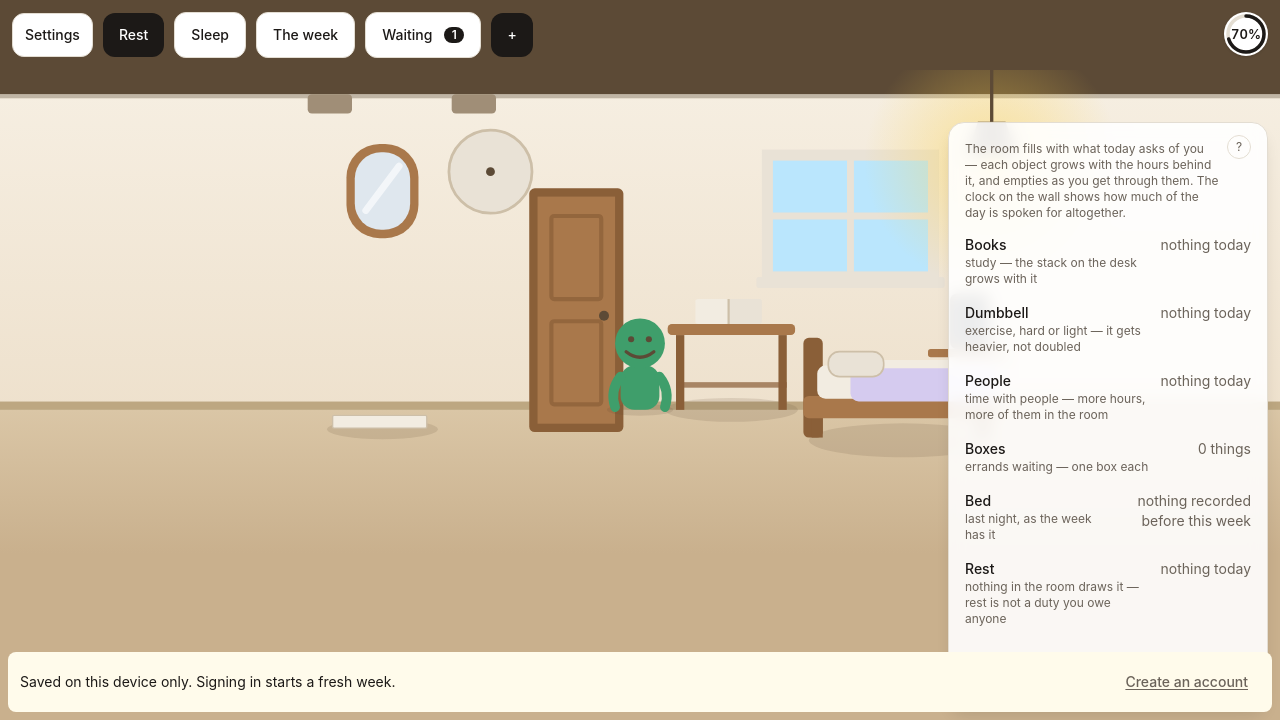
RoomShell showing reported energy over time › plots the days the student has reported on
The width and height of the screenshot is (1280, 720).
Expected: the button with test id "open-week" is shown, [256,12,355,58]
Click the button with test id "room-gauge" at (1246,34), box [1224,12,1268,56]
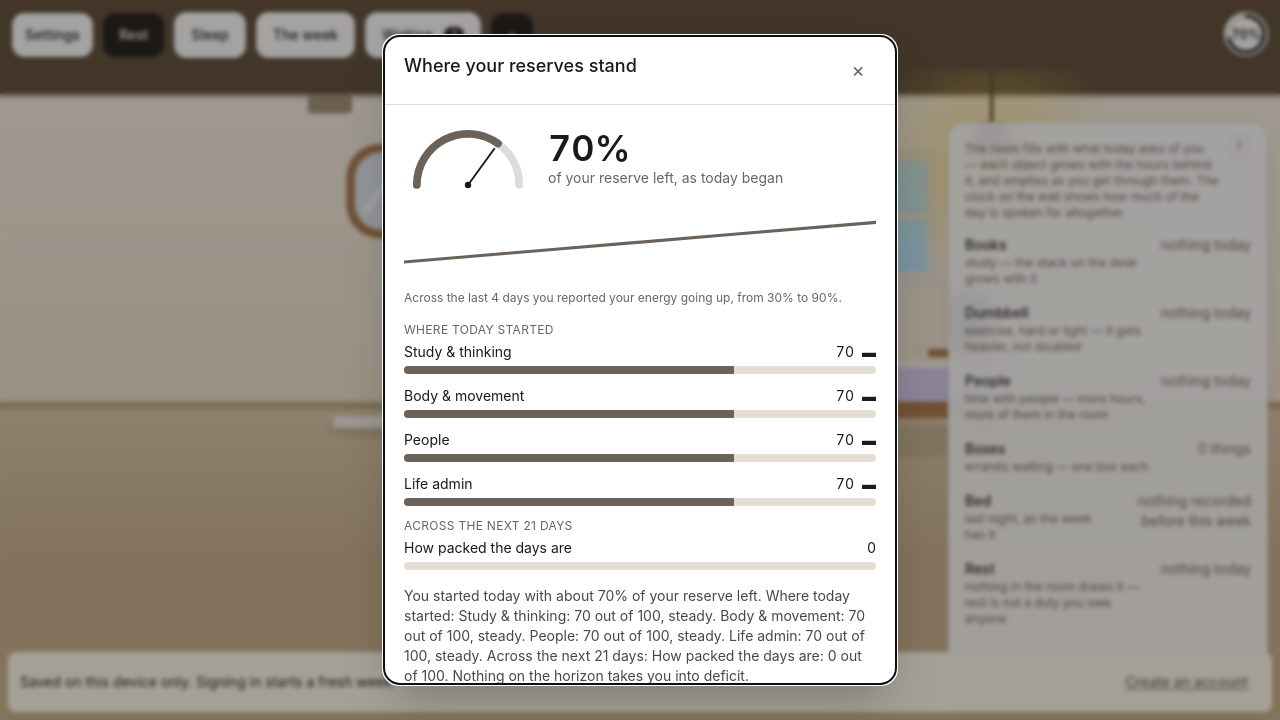
Expected: the element with test id "sparkline" is shown, [404,222,876,262]
Expected: the text with test id "sparkline-text" shows "going up", [404,290,842,305]
